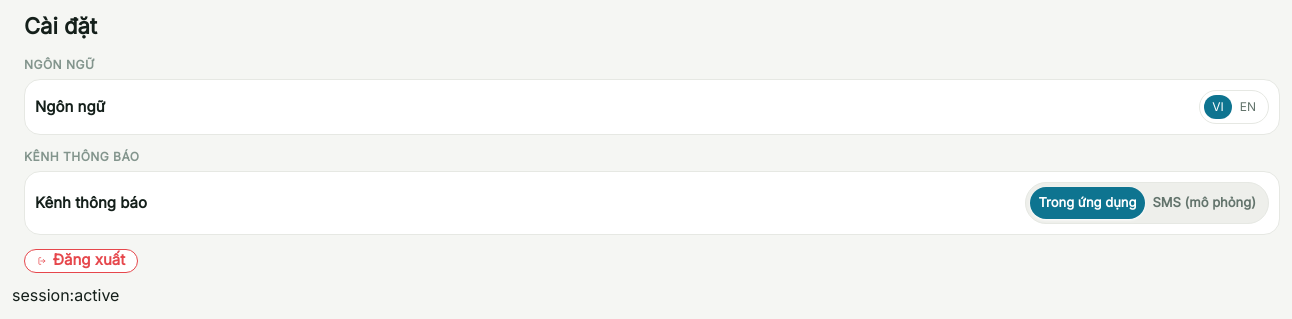
Test: SettingsPage (SCR-10 Settings) › FR-21: toggles VI<->EN, labels localise while the underlying code stays English
The width and height of the screenshot is (1292, 319).
Expected: the heading "Cài đặt" is shown, 24,13 -> 97,39
Click the button "EN" at (1248, 107), box 1232,95 -> 1264,119
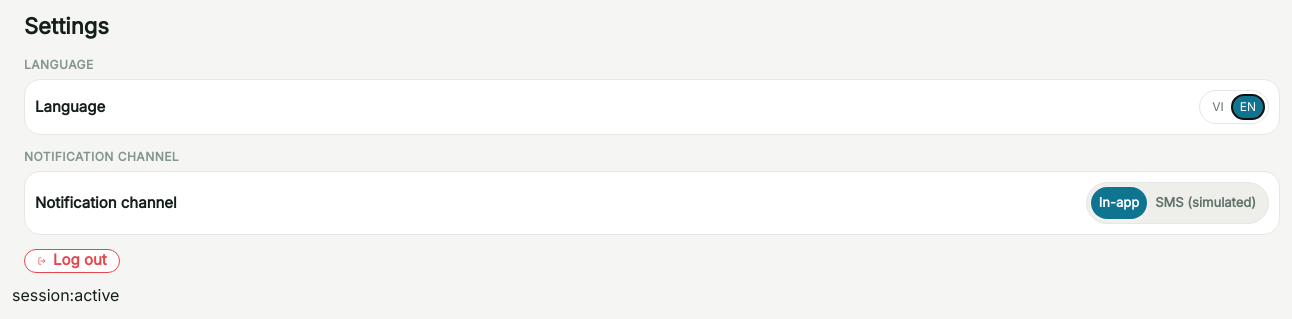
Now the heading "Settings" is shown, box 24,13 -> 109,39
Now the button "In-app" is shown, box 1091,187 -> 1147,218
